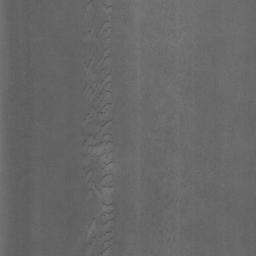Silk spot: (83, 83, 110, 102), (83, 159, 115, 174), (100, 201, 120, 225), (97, 237, 120, 256), (82, 137, 114, 147), (92, 227, 114, 240), (88, 178, 106, 191), (95, 119, 113, 127)
